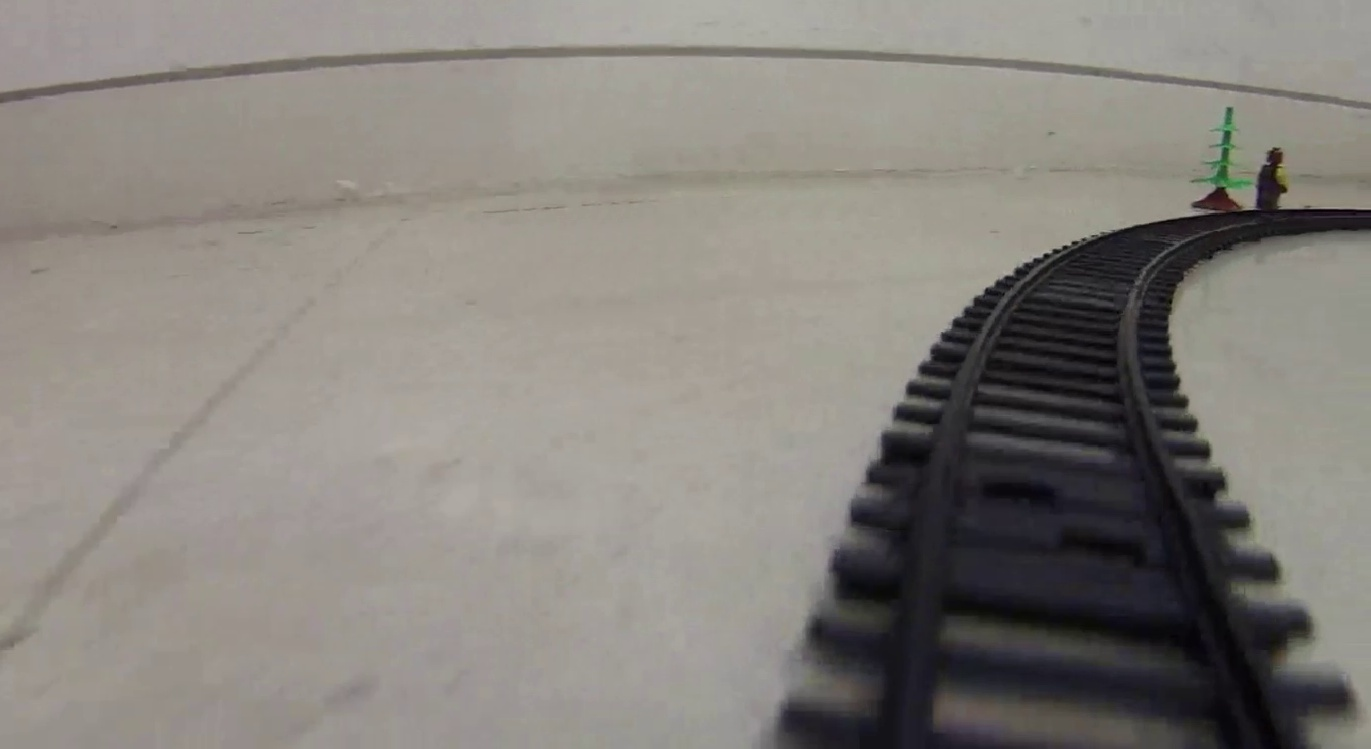people: (1254, 145, 1292, 211)
tree: (1187, 104, 1248, 209)
